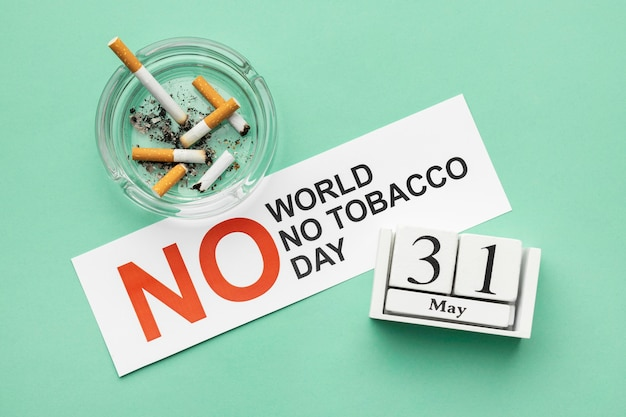cigarette: (103, 36, 188, 126), (193, 76, 253, 134), (177, 99, 241, 149), (189, 150, 236, 193), (130, 142, 208, 166), (152, 159, 189, 198)
